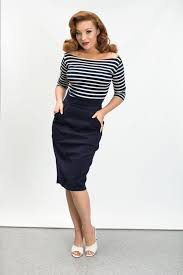F_tailored skirt: (43, 91, 106, 193)
